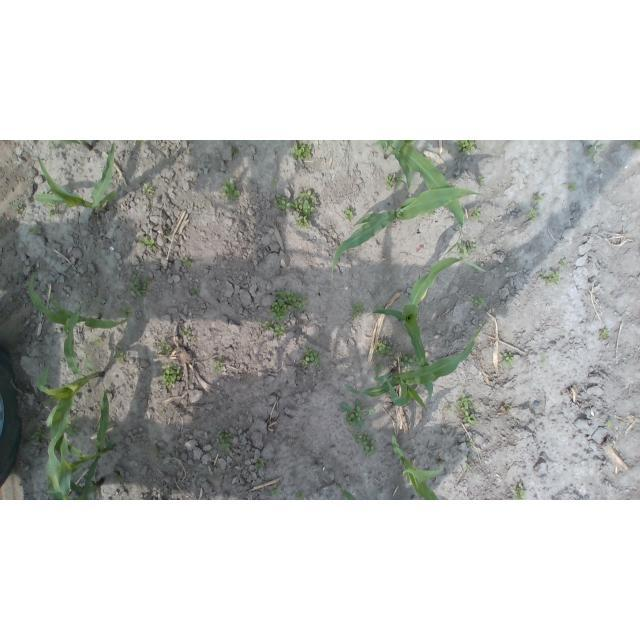Maize: (372, 256, 488, 403), (331, 187, 483, 273), (344, 325, 484, 412), (35, 306, 105, 467), (375, 140, 463, 254), (43, 388, 116, 500), (28, 268, 128, 330), (33, 144, 119, 214), (385, 428, 446, 500), (54, 433, 103, 500), (56, 140, 92, 150), (341, 488, 360, 500)
Weeds: (267, 289, 309, 320), (339, 400, 375, 429), (292, 188, 317, 217), (456, 394, 478, 424), (352, 432, 377, 457), (159, 364, 181, 388), (299, 348, 323, 367), (216, 429, 234, 453), (220, 180, 240, 201), (132, 276, 149, 300), (292, 142, 313, 161), (456, 240, 476, 258), (274, 194, 292, 214), (540, 270, 563, 285), (586, 145, 605, 163), (372, 340, 392, 357), (456, 141, 477, 154), (67, 416, 80, 436), (398, 355, 415, 370), (513, 484, 528, 501), (351, 300, 365, 318), (139, 235, 157, 249), (156, 341, 172, 356), (32, 429, 49, 442), (500, 352, 514, 367), (274, 323, 287, 338), (297, 216, 312, 229), (120, 307, 137, 318), (469, 205, 481, 219), (115, 349, 126, 364), (212, 360, 224, 373), (471, 297, 485, 308), (344, 206, 355, 220), (396, 172, 407, 185), (271, 483, 281, 497), (386, 174, 395, 189), (48, 202, 57, 217), (525, 209, 537, 220), (532, 194, 544, 205), (262, 320, 273, 331), (598, 329, 609, 340), (629, 140, 640, 150), (49, 140, 60, 150), (143, 183, 153, 194), (152, 450, 165, 457), (255, 460, 265, 469), (444, 402, 453, 412), (12, 204, 22, 213), (182, 257, 192, 266), (115, 474, 124, 483), (372, 363, 380, 373), (477, 175, 485, 185), (568, 183, 577, 191), (192, 288, 201, 296), (182, 328, 190, 336), (296, 493, 305, 500), (231, 148, 237, 157), (605, 420, 612, 427), (560, 259, 568, 265), (28, 227, 36, 233), (427, 209, 435, 215), (467, 439, 474, 445), (466, 465, 472, 471), (507, 405, 513, 411), (271, 180, 278, 185), (135, 140, 143, 144), (42, 202, 47, 207), (84, 473, 88, 478), (96, 336, 101, 340)
